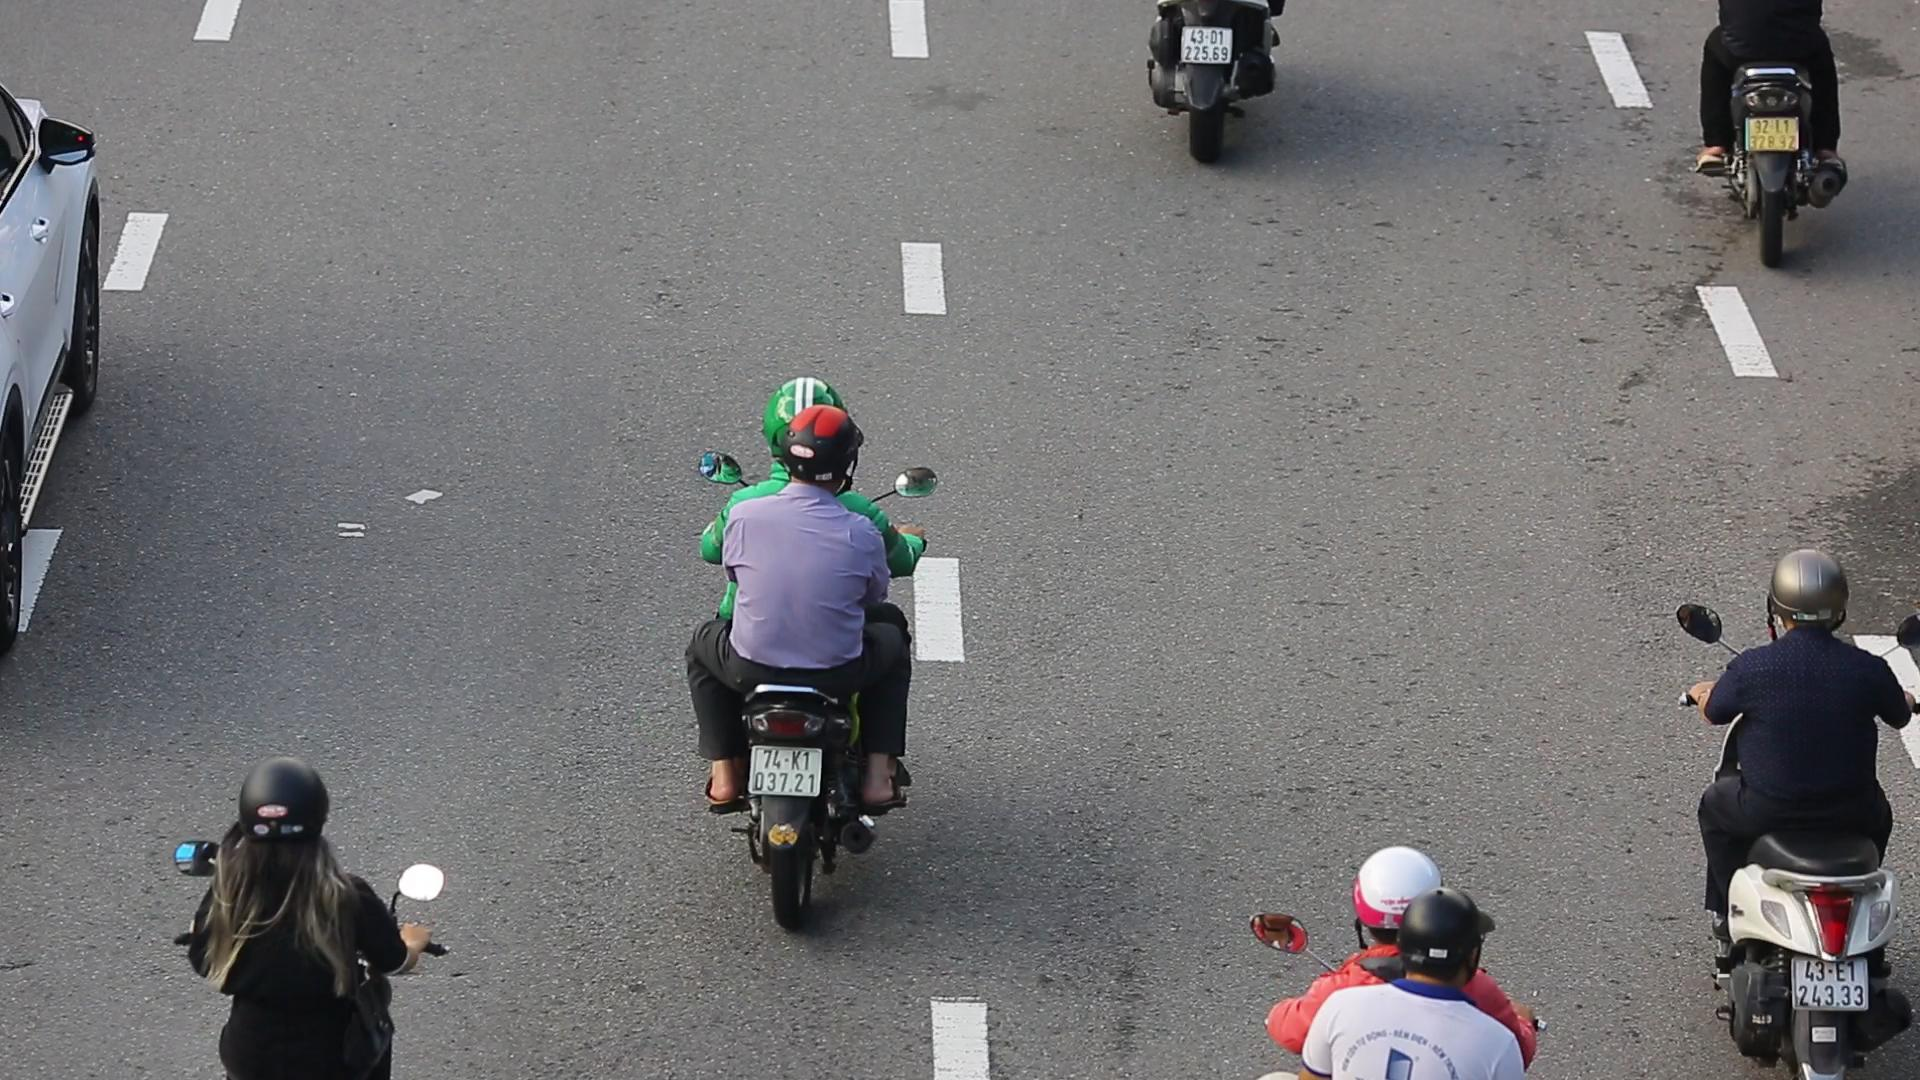motobike: (676, 372, 942, 936), (1667, 545, 1920, 1080)
